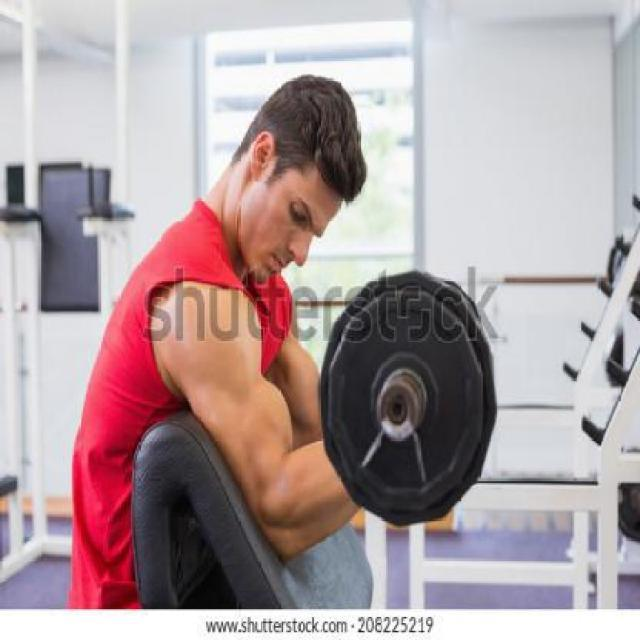Barbell: (372, 366, 423, 448)
